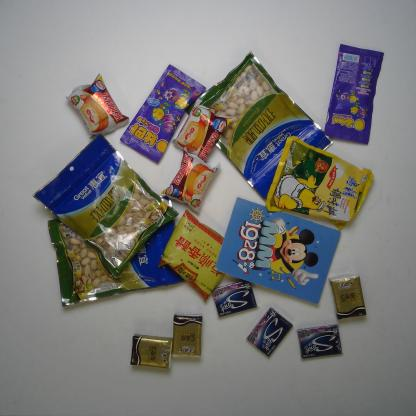Candy: (119, 63, 206, 163), (323, 43, 385, 145)
Dessert: (64, 72, 130, 139), (159, 146, 222, 214), (173, 96, 233, 163)
Dried Fruit: (185, 50, 333, 201), (32, 132, 180, 282), (47, 195, 188, 308)
Gum: (246, 306, 293, 358), (212, 280, 257, 317), (297, 324, 342, 359)
Seasoner: (265, 135, 375, 231), (158, 209, 234, 304)
Stationery: (214, 195, 341, 306)
Tissue: (329, 273, 367, 320), (129, 333, 173, 370), (172, 313, 203, 358)
